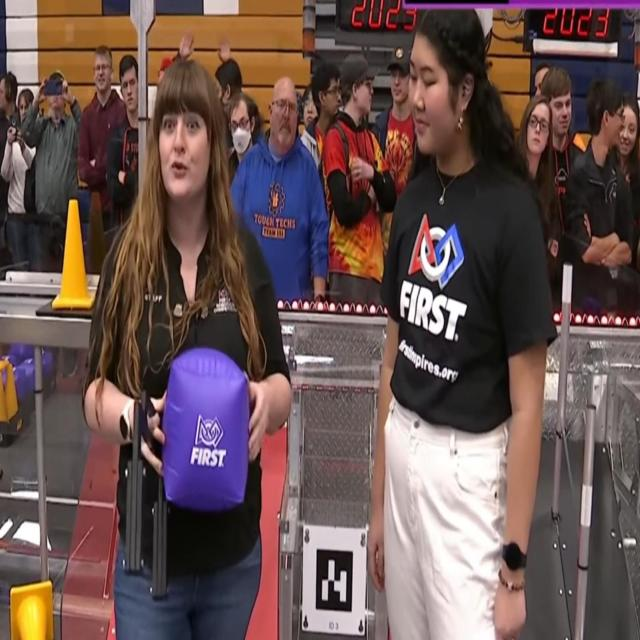frc_cone: (52, 198, 93, 310), (9, 576, 54, 640), (7, 368, 25, 431), (0, 371, 14, 440)
frc_cube: (165, 346, 250, 506), (24, 356, 43, 384), (12, 366, 24, 399), (42, 353, 56, 374), (18, 342, 31, 360)
